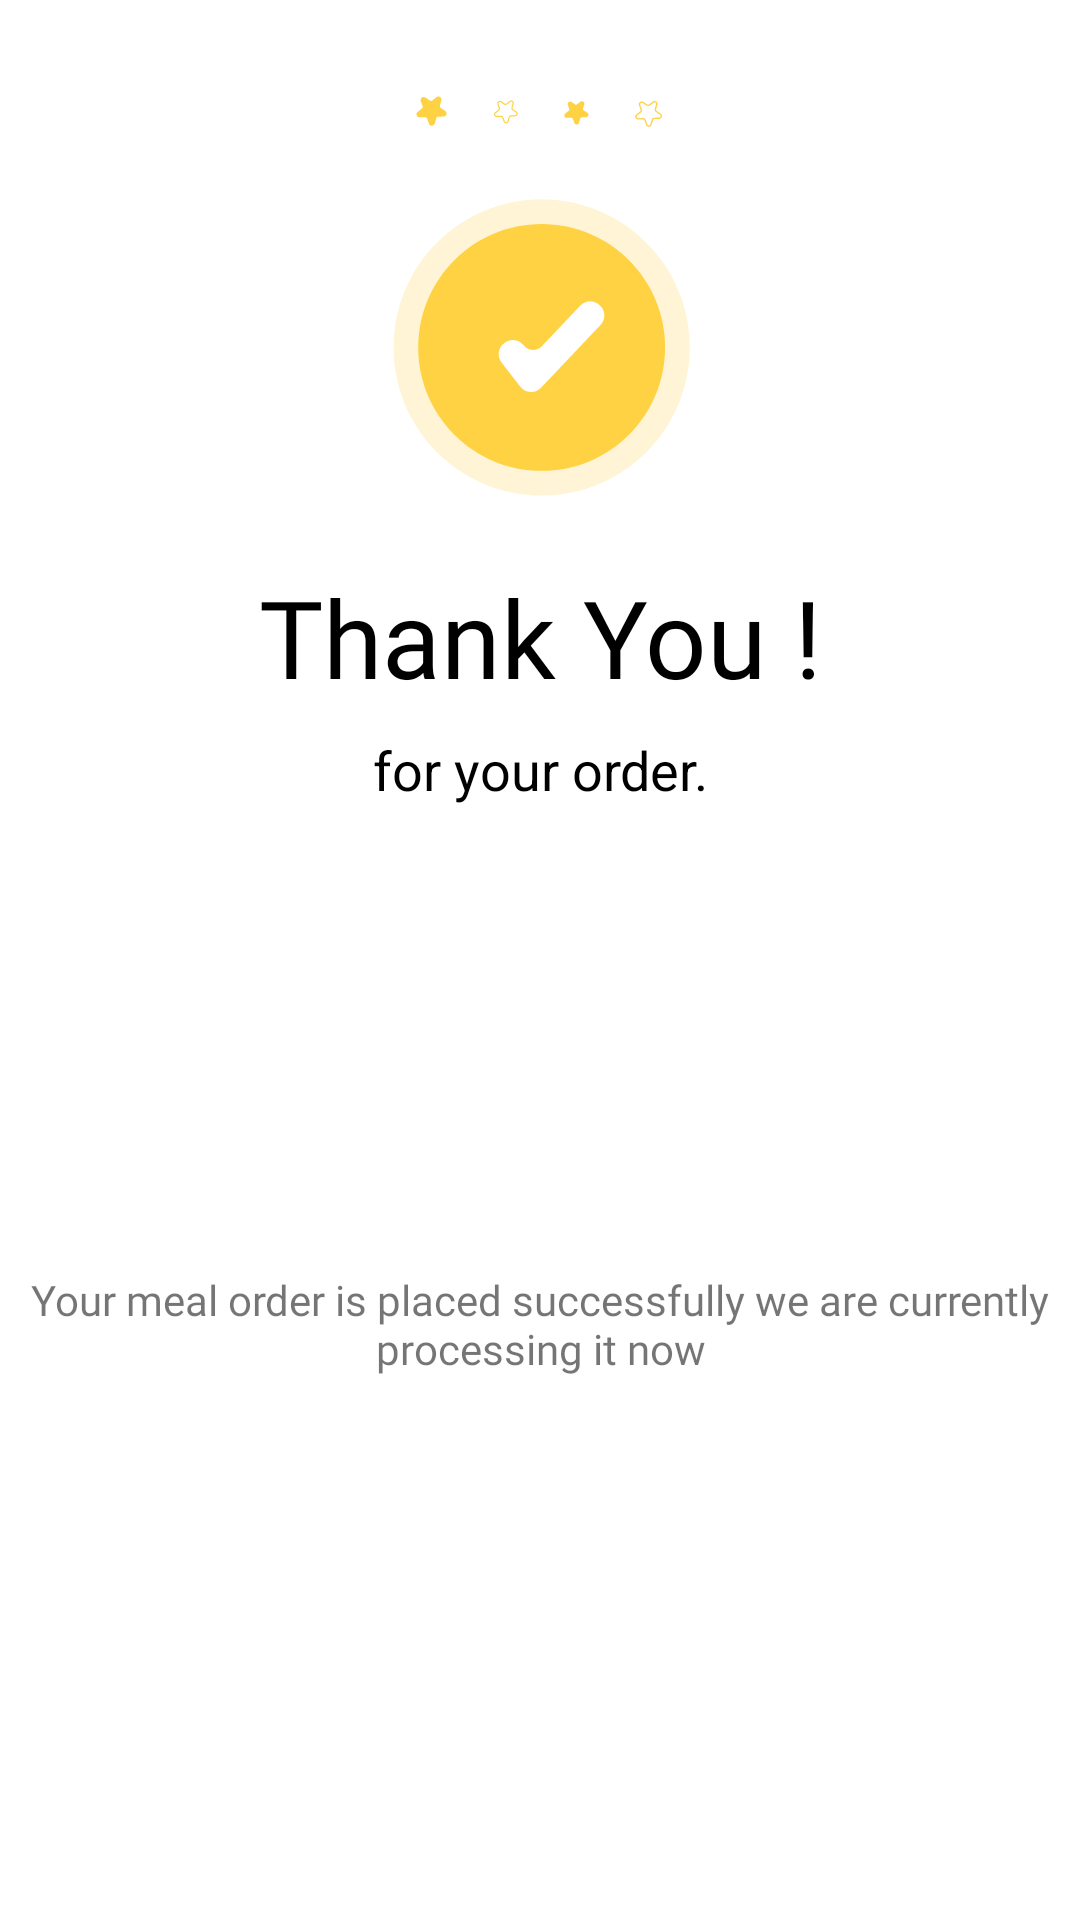

Icons on this 1080px x 1920px Android screen, each with the point to tap as (x=x, y=y):
undraw check boxes re: (x=542, y=347)
